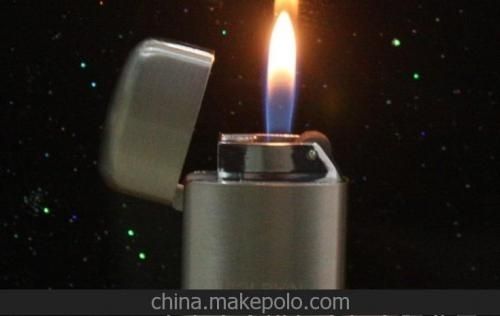fire: (263, 1, 299, 127)
